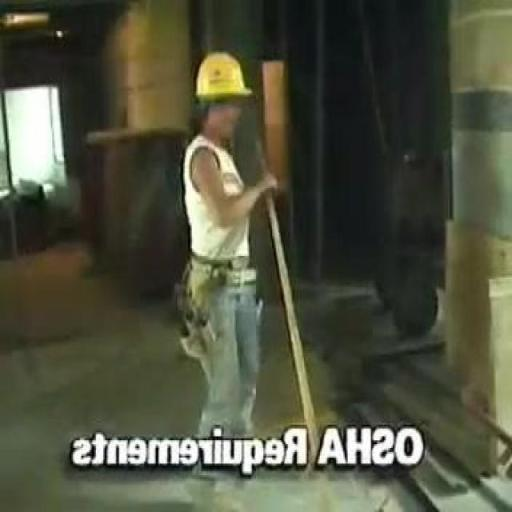helmet: (181, 41, 261, 118)
